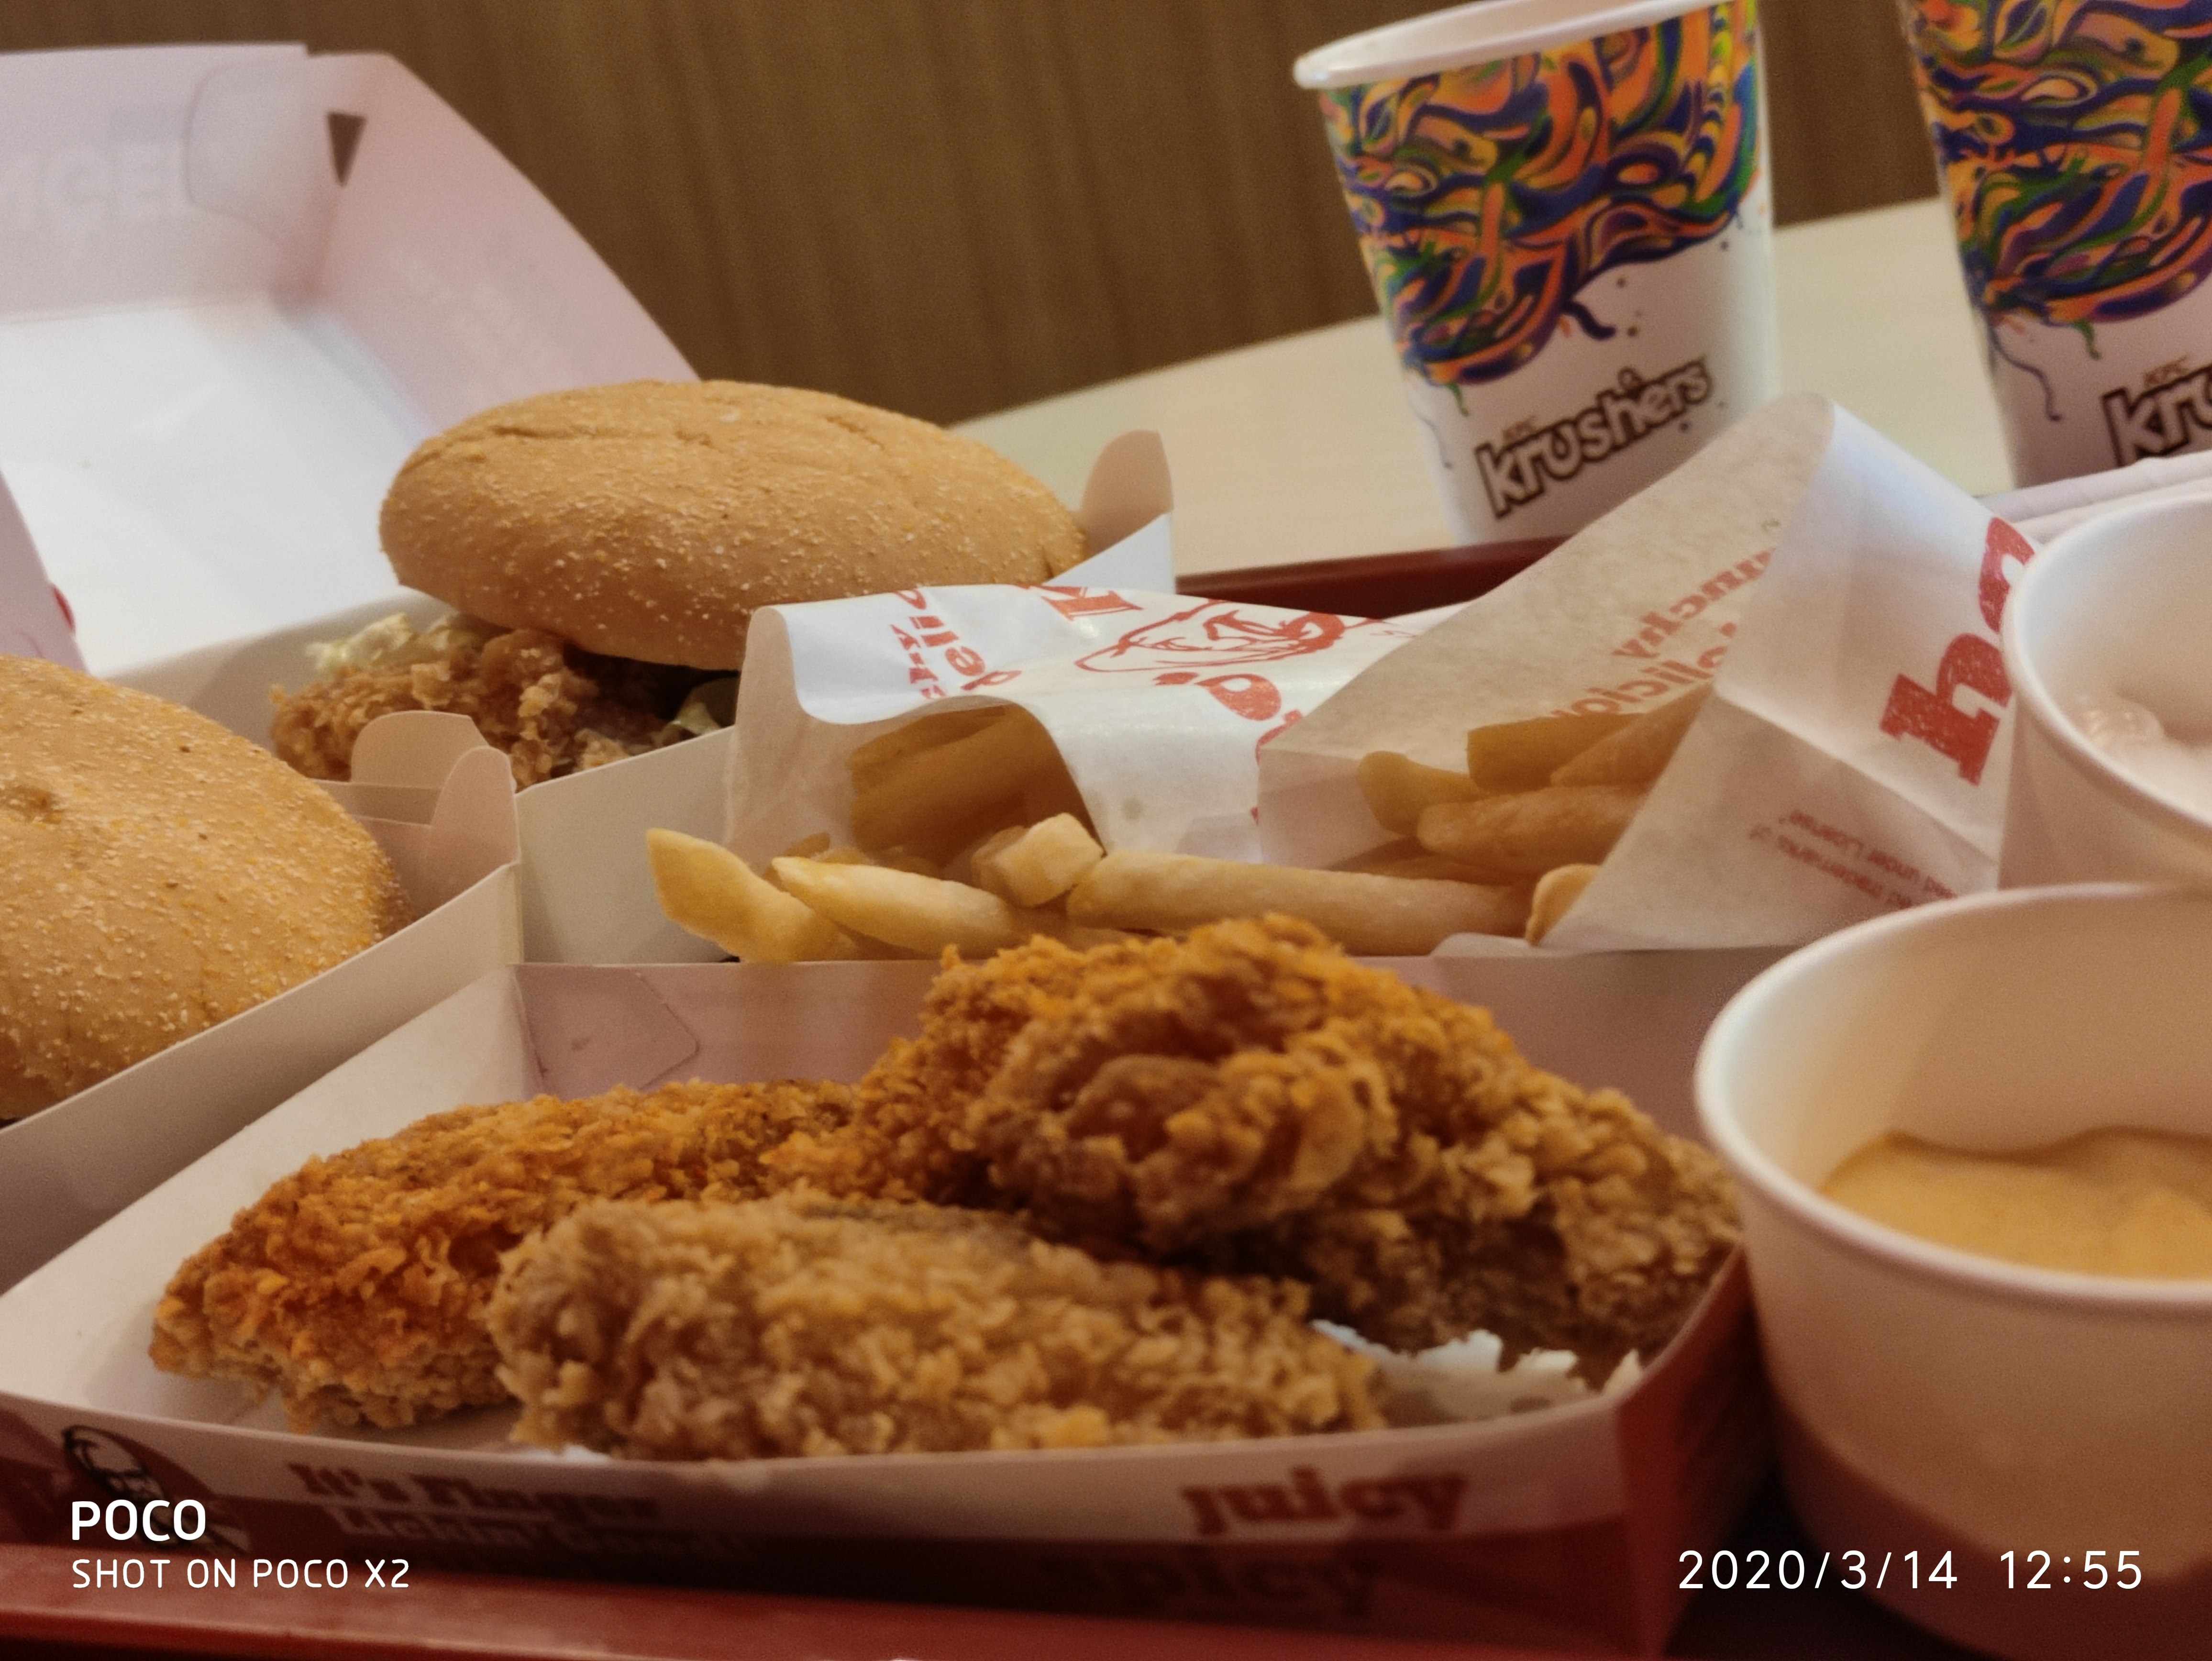food: (136, 913, 1748, 1476), (1085, 373, 1983, 961), (229, 365, 1101, 785), (632, 565, 1441, 981), (1286, 0, 1795, 550), (1738, 1103, 2212, 1661), (0, 630, 443, 1127), (1875, 0, 2212, 490), (1987, 497, 2212, 865)
